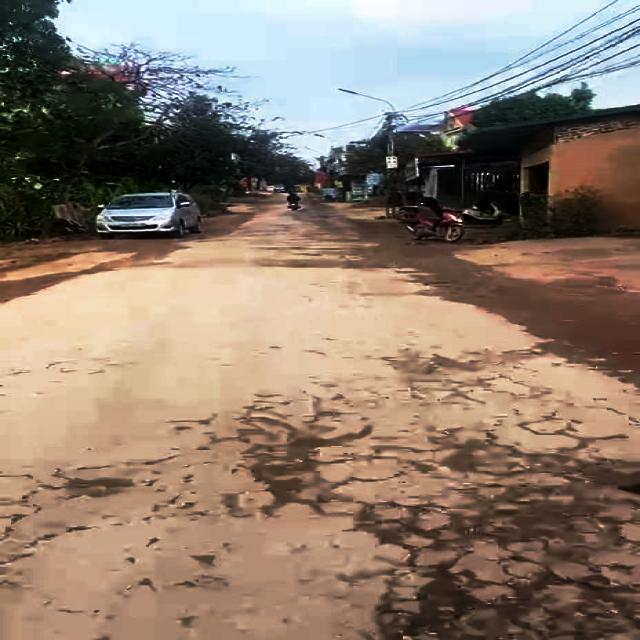pothole: (358, 439, 640, 569), (363, 570, 640, 640), (225, 411, 353, 512)
